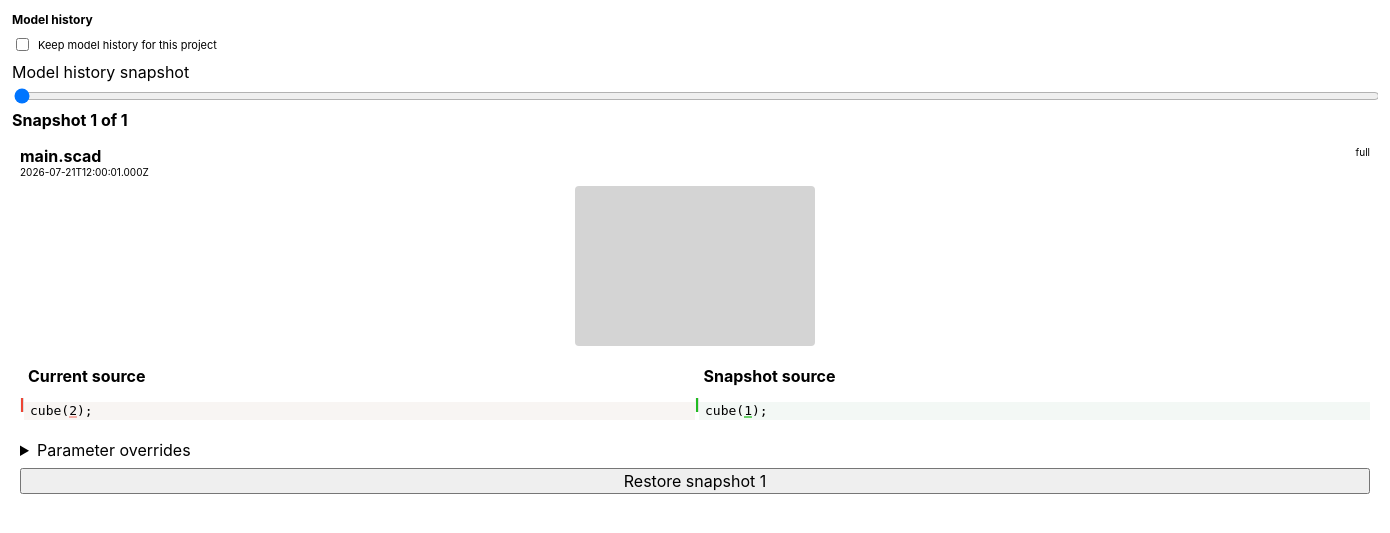
surfaces restore failures and offers explicit per-project persistence
Click the checkbox labelled "Keep model history for this project": (22,44) [16,38,29,51]
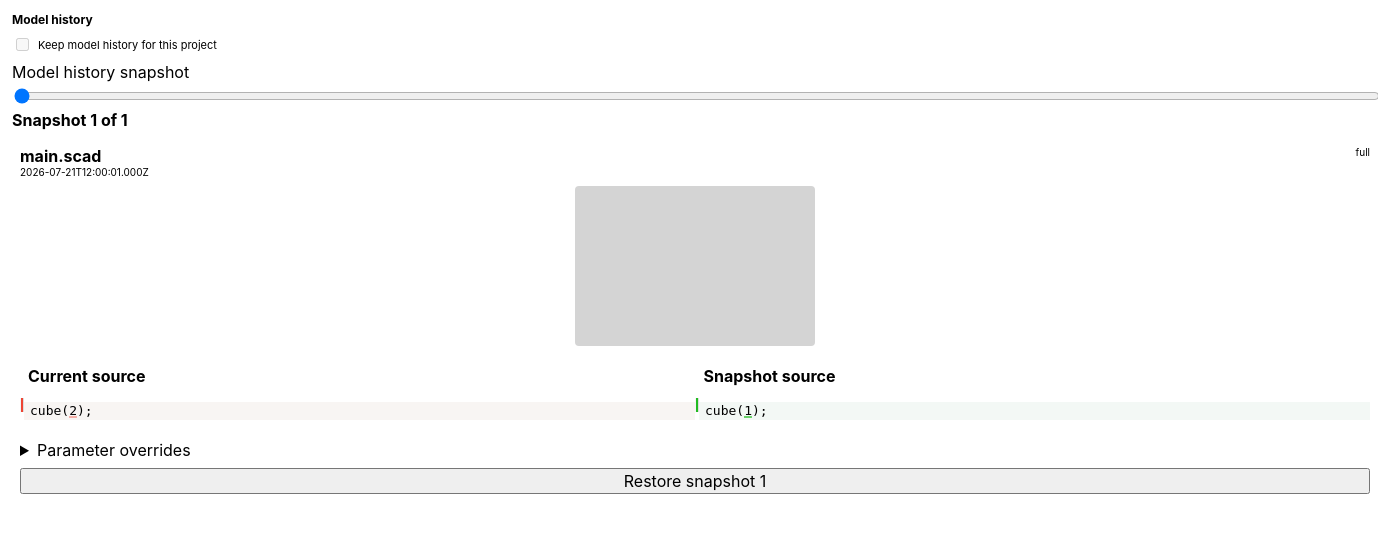
Click the button "Restore snapshot 1": (695,481) [20,468,1370,494]
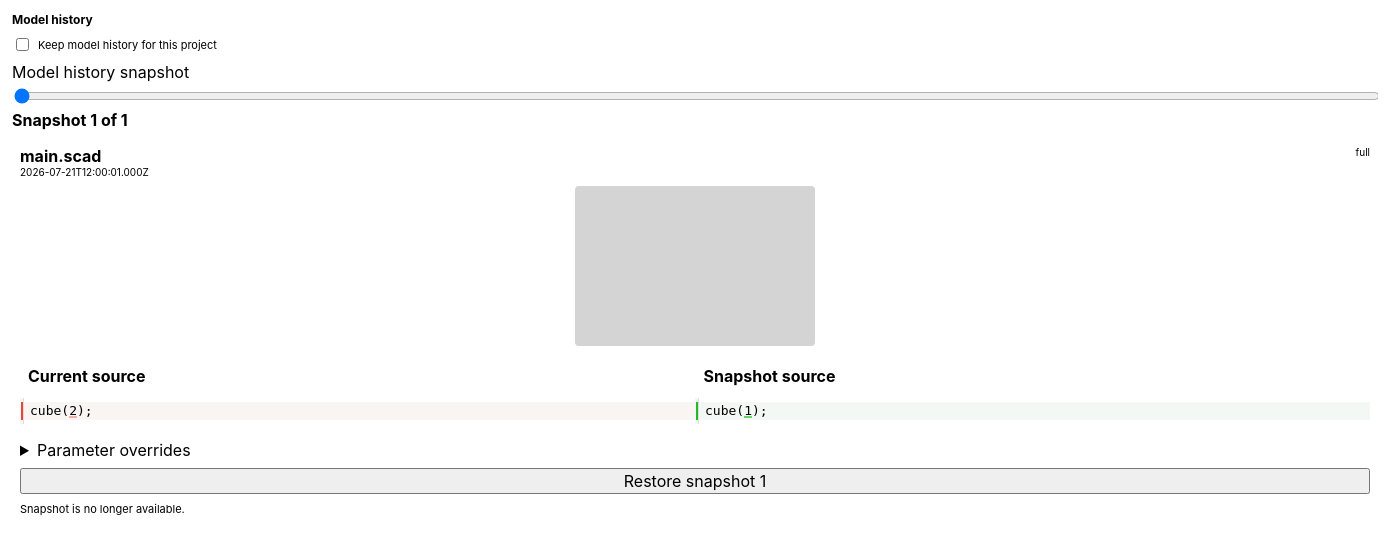
Expected: the message reads "Snapshot is no longer available.", [20,502,185,516]
